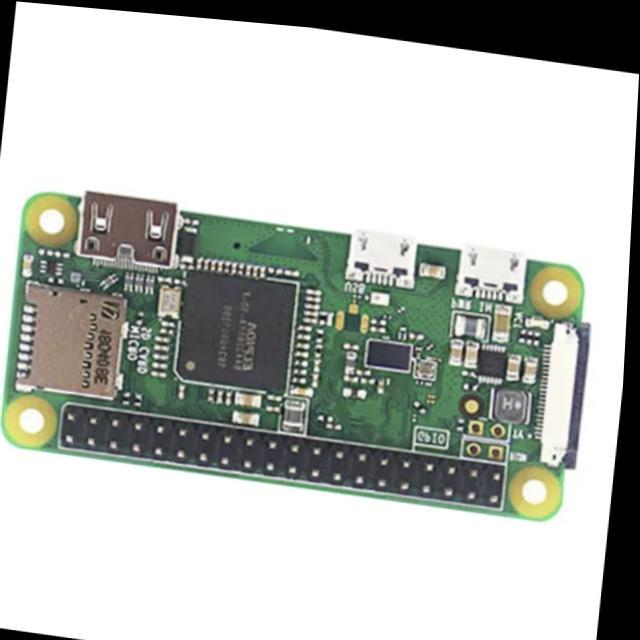Raspberry-Pi-Zero-WH: (1, 192, 591, 520)
